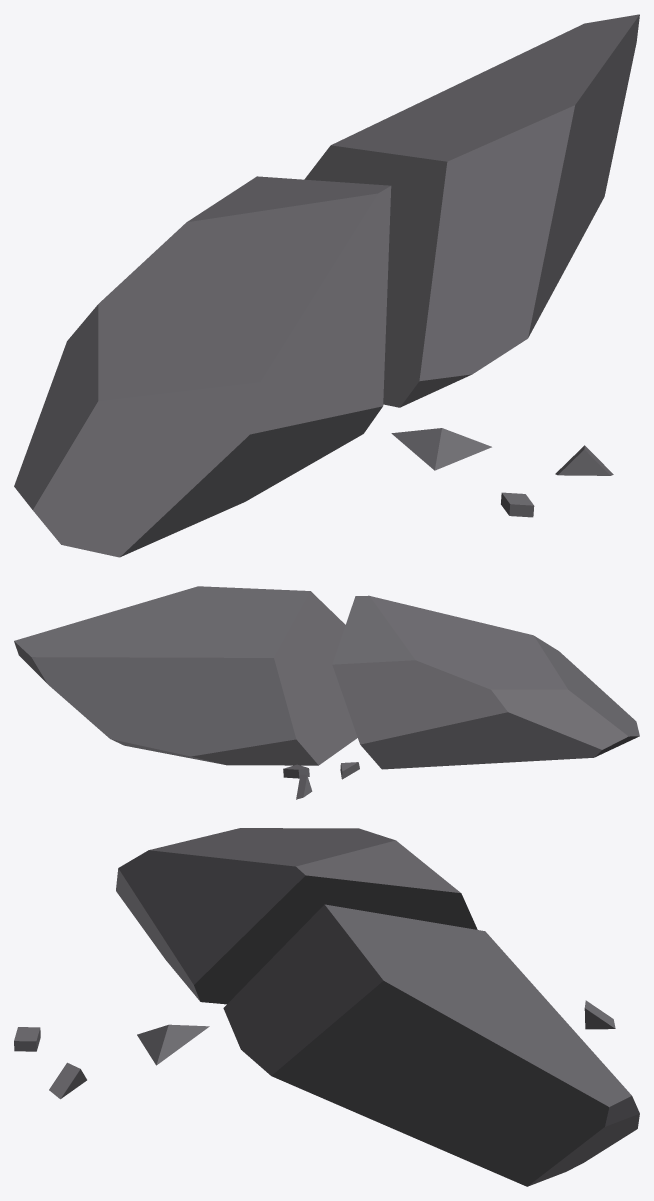
File: Rock_Sharp_crk_m_01.fbx
3 views of the same model, one above another, from view 1: azimuth 30°, elevation 25°; view 2: azimuth 150°, elevation 25°; view 3: azimuth 270°, elevation 25° (orthographic). The views are drawn at different scales.
Parts seen in each view (by area): view 1: Rock_Sharp_crk_m_01; view 2: Rock_Sharp_crk_m_01; view 3: Rock_Sharp_crk_m_01.
Boxes of the visible parts, bbox=[...] form: Rock_Sharp_crk_m_01: bbox=[14, 14, 639, 557]; Rock_Sharp_crk_m_01: bbox=[14, 586, 639, 799]; Rock_Sharp_crk_m_01: bbox=[14, 828, 639, 1186].
Bounding box in the file's own units: 227 × 54.65 × 165.
